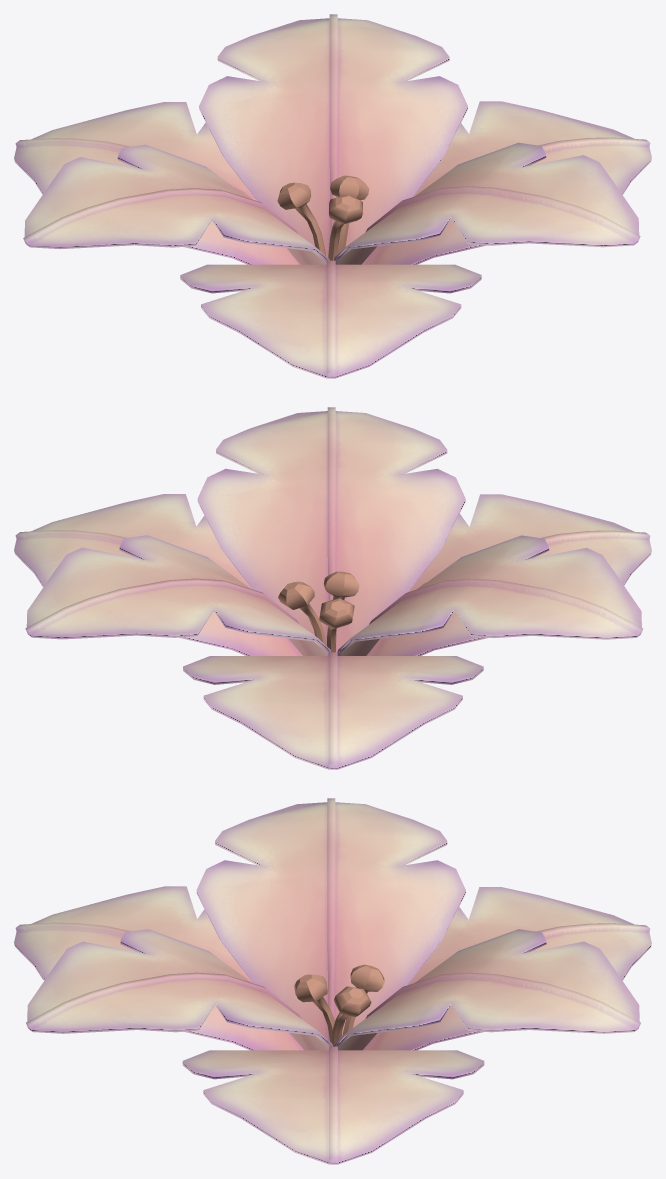
Rendered from plant4_pink.fbx.
3 views of the same model, one above another, from view 1: azimuth 30°, elevation 25°; view 2: azimuth 150°, elevation 25°; view 3: azimuth 270°, elevation 25° (orthographic).
Parts seen in each view (by area): view 1: pPlane270, pPlane273, pPlane268, pPlane272, pPlane271, pPlane269, pCylinder70, pCylinder69, pCylinder68; view 2: pPlane268, pPlane271, pPlane272, pPlane270, pPlane273, pPlane269, pCylinder68, pCylinder70, pCylinder69; view 3: pPlane272, pPlane269, pPlane268, pPlane270, pPlane271, pPlane273, pCylinder68, pCylinder69, pCylinder70.
Boxes of the visible parts, x1=… form: pPlane270: x1=199, y1=14, x2=467, y2=257; pPlane273: x1=180, y1=260, x2=481, y2=378; pPlane268: x1=334, y1=142, x2=640, y2=264; pPlane272: x1=23, y1=144, x2=329, y2=264; pPlane271: x1=14, y1=102, x2=299, y2=264; pPlane269: x1=362, y1=101, x2=651, y2=264; pCylinder70: x1=277, y1=182, x2=325, y2=255; pCylinder69: x1=328, y1=194, x2=362, y2=260; pCylinder68: x1=330, y1=175, x2=369, y2=254; pPlane268: x1=197, y1=407, x2=465, y2=652; pPlane271: x1=183, y1=652, x2=483, y2=769; pPlane272: x1=337, y1=535, x2=642, y2=655; pPlane270: x1=25, y1=535, x2=330, y2=655; pPlane273: x1=366, y1=494, x2=651, y2=655; pPlane269: x1=14, y1=494, x2=302, y2=655; pCylinder68: x1=278, y1=581, x2=326, y2=645; pCylinder70: x1=319, y1=598, x2=354, y2=652; pCylinder69: x1=324, y1=571, x2=359, y2=642; pPlane272: x1=196, y1=798, x2=465, y2=1041; pPlane269: x1=182, y1=1046, x2=484, y2=1164; pPlane268: x1=26, y1=929, x2=332, y2=1050; pPlane270: x1=334, y1=929, x2=640, y2=1050; pPlane271: x1=363, y1=887, x2=651, y2=1050; pPlane273: x1=14, y1=886, x2=303, y2=1050; pCylinder68: x1=331, y1=986, x2=371, y2=1046; pCylinder69: x1=294, y1=974, x2=334, y2=1042; pCylinder70: x1=342, y1=964, x2=384, y2=1036.
Size of the model in its own units: 2.18 by 0.5433 by 1.93.
